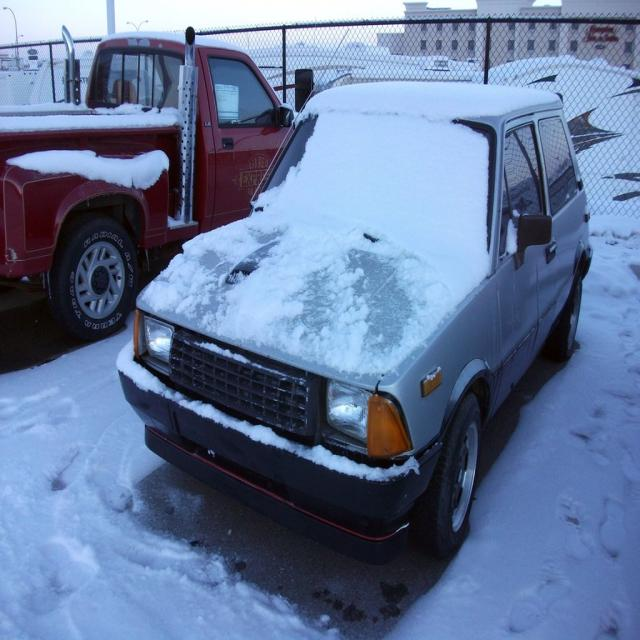car: (117, 79, 589, 560)
